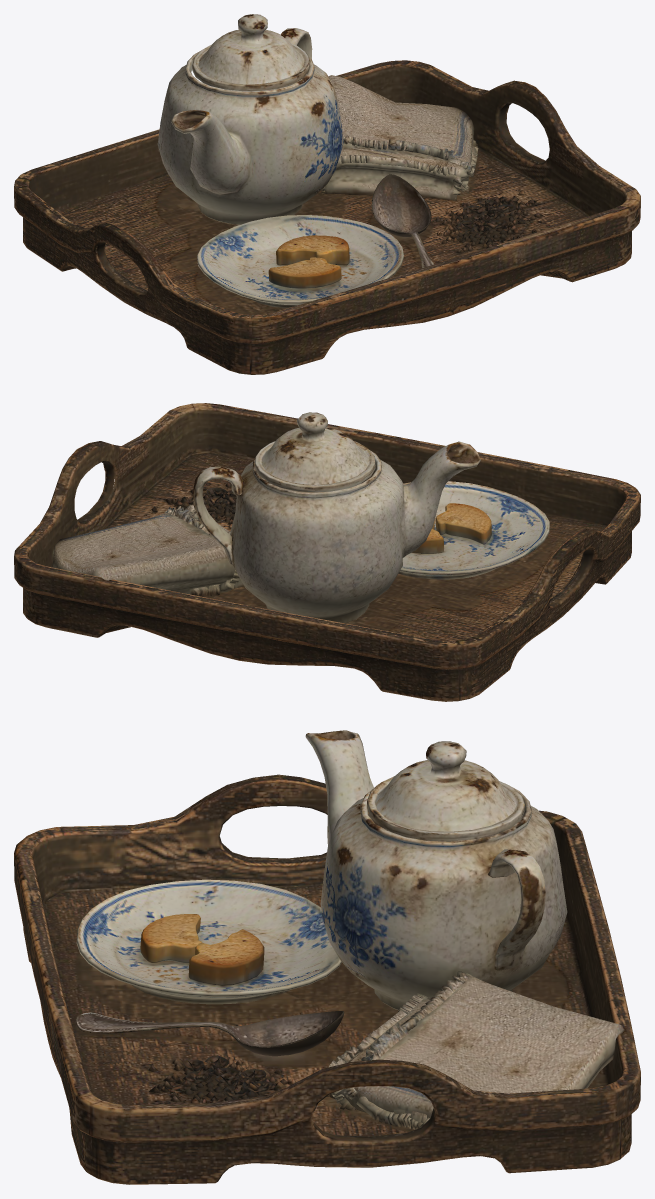
File: tea-service.glb
3 renders of one model, top to bottom at view 1: azimuth 30°, elevation 25°; view 2: azimuth 150°, elevation 25°; view 3: azimuth 270°, elevation 25°, orthographic. The views are drawn at different scales.
Visible parts, largest first — view 1: f7be502c_ecbb_4715_94ec_821b3139f348; view 2: f7be502c_ecbb_4715_94ec_821b3139f348; view 3: f7be502c_ecbb_4715_94ec_821b3139f348.
Boxes of the visible parts, box(x1,y1,x2,y2) form: f7be502c_ecbb_4715_94ec_821b3139f348: box(14, 14, 640, 374); f7be502c_ecbb_4715_94ec_821b3139f348: box(14, 403, 640, 701); f7be502c_ecbb_4715_94ec_821b3139f348: box(14, 730, 640, 1184).
Size of the model in its own units: 0.9995 by 0.4233 by 0.8745.
1 material, 1 textured.
